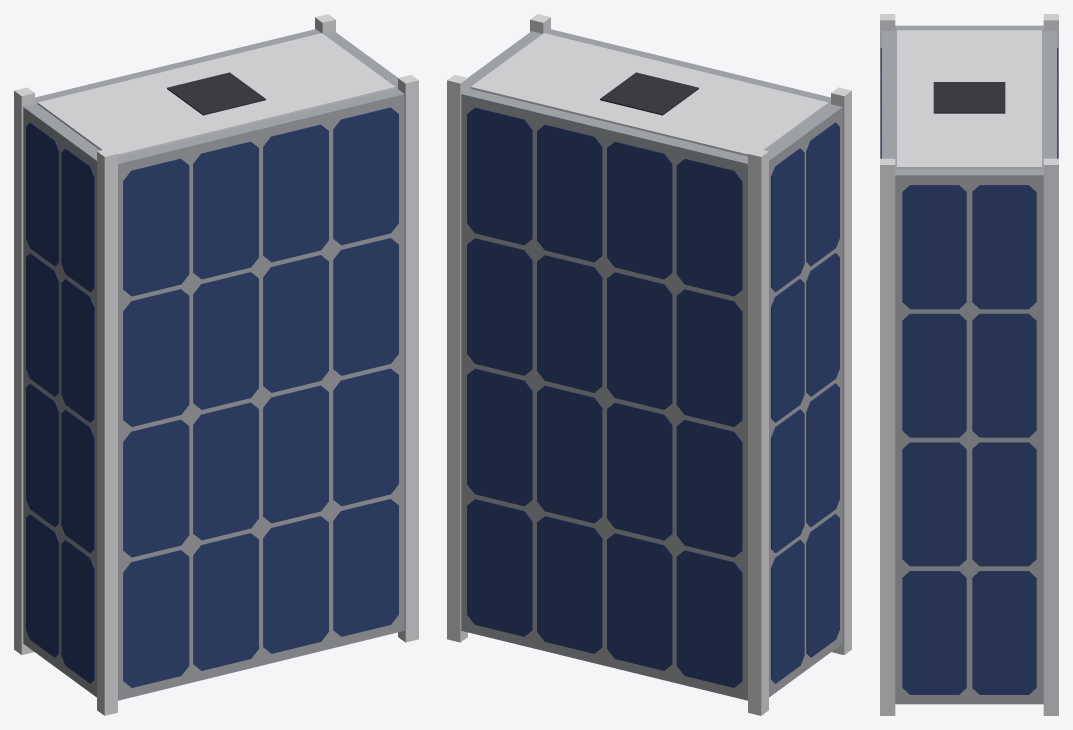
File: CubeSat_6U.fbx
3 renders of one model, left to right at view 1: azimuth 30°, elevation 25°; view 2: azimuth 150°, elevation 25°; view 3: azimuth 270°, elevation 25°, orthographic.
Parts seen in each view (by area): view 1: CubeSat_6U; view 2: CubeSat_6U; view 3: CubeSat_6U.
Part boxes in pixels (bbox=[...]): CubeSat_6U: bbox=[14, 14, 418, 715]; CubeSat_6U: bbox=[447, 14, 851, 715]; CubeSat_6U: bbox=[880, 14, 1058, 715].
Bounding box in the file's own units: 0.2 × 0.34 × 0.1.
